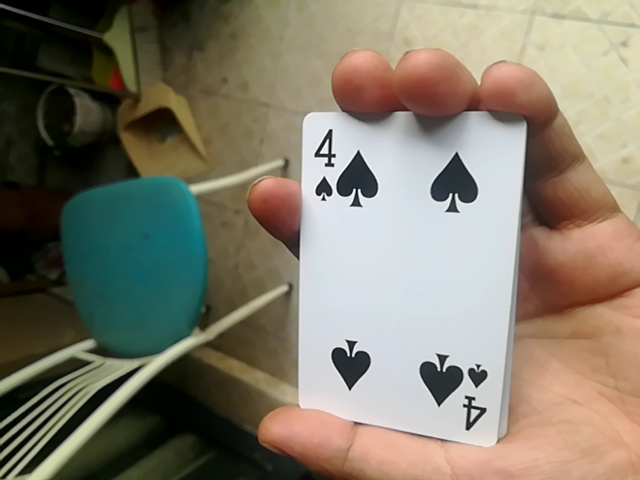ht 4: (288, 110, 524, 445)
